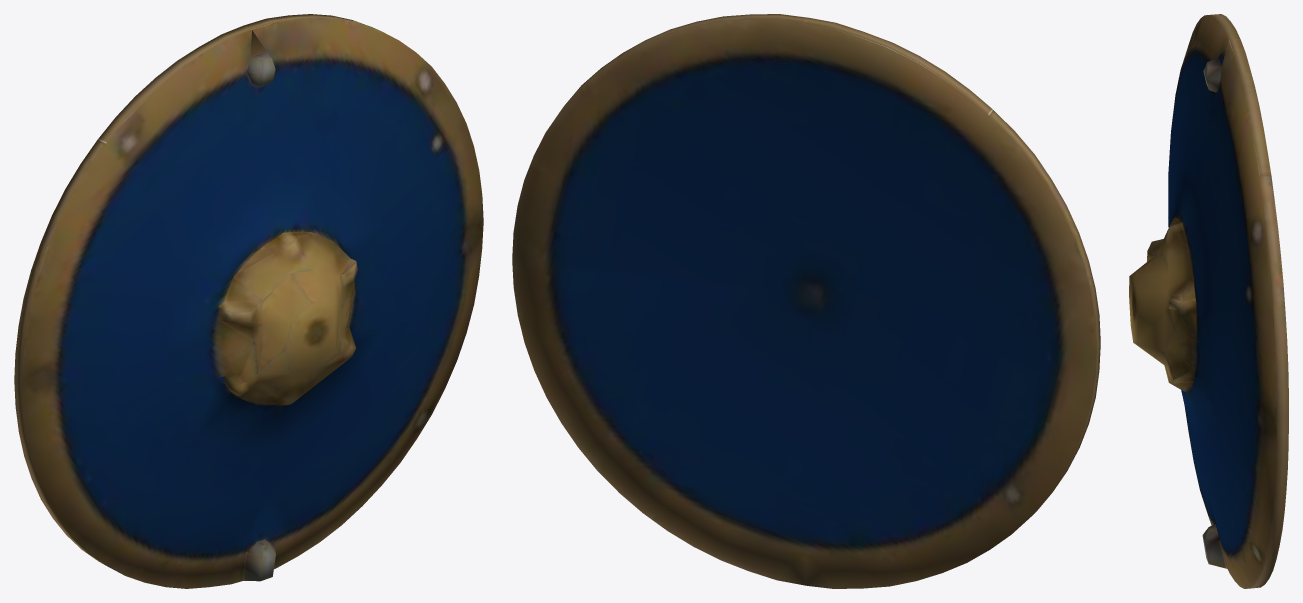
The model's file is g_shield_round.fbx.
The picture shows the model from 3 angles, left to right: view 1: azimuth 30°, elevation 25°; view 2: azimuth 150°, elevation 25°; view 3: azimuth 270°, elevation 25°; orthographic projection. The views are drawn at different scales.
Visible parts, largest first — view 1: tripo_node_148ce0d1-b1fd-48fb-b690-da6d13ecf979; view 2: tripo_node_148ce0d1-b1fd-48fb-b690-da6d13ecf979; view 3: tripo_node_148ce0d1-b1fd-48fb-b690-da6d13ecf979.
Boxes of the visible parts, left/top/right/bottom form: tripo_node_148ce0d1-b1fd-48fb-b690-da6d13ecf979: left=14, top=14, right=483, bottom=588; tripo_node_148ce0d1-b1fd-48fb-b690-da6d13ecf979: left=512, top=14, right=1100, bottom=588; tripo_node_148ce0d1-b1fd-48fb-b690-da6d13ecf979: left=1129, top=14, right=1288, bottom=588.
Bounding box in the file's own units: 0.7701 × 0.78 × 0.2164.
Materials: 1 (1 with a texture image).
